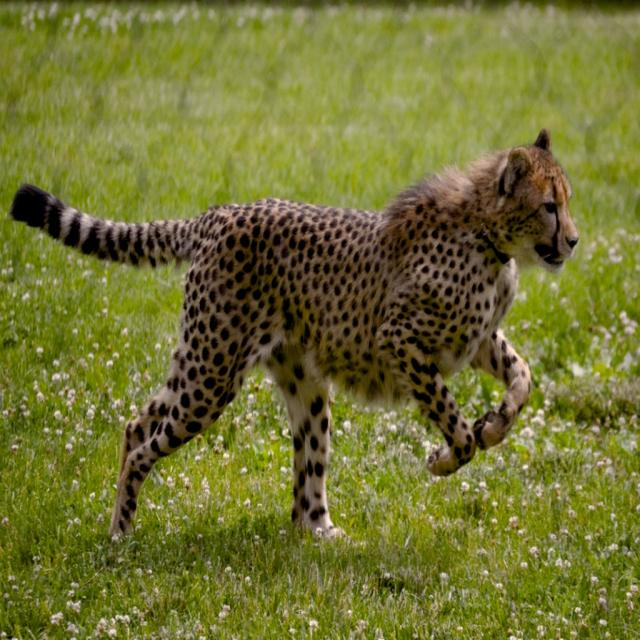Cheetah: (9, 126, 578, 542)
